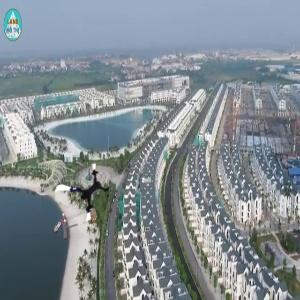drone: (60, 169, 115, 224)
